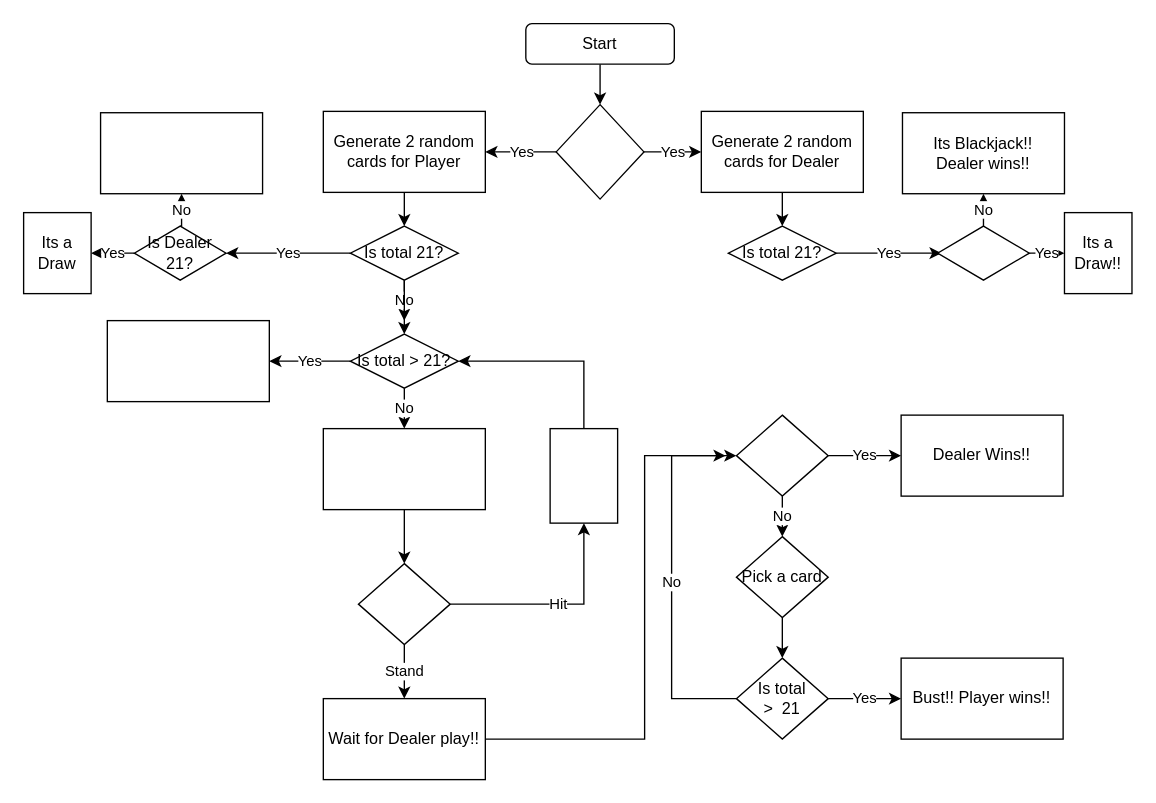
Some shapes in this 1156 by 803 pixel diagram are drawn without their labels. Each missing label, with the box of its shape:
Bust!! Dealer wins: (106, 319, 269, 402)
Deal?: (555, 103, 644, 199)
Generate a card: (549, 427, 618, 523)
Hit or Stand?: (357, 562, 450, 645)
Is Dealer > Player total: (735, 414, 828, 496)
Is Player 21?: (936, 225, 1029, 280)
Its Blackjack!! Player wins!!: (99, 111, 263, 194)
Show total to Player!!: (322, 427, 485, 510)
